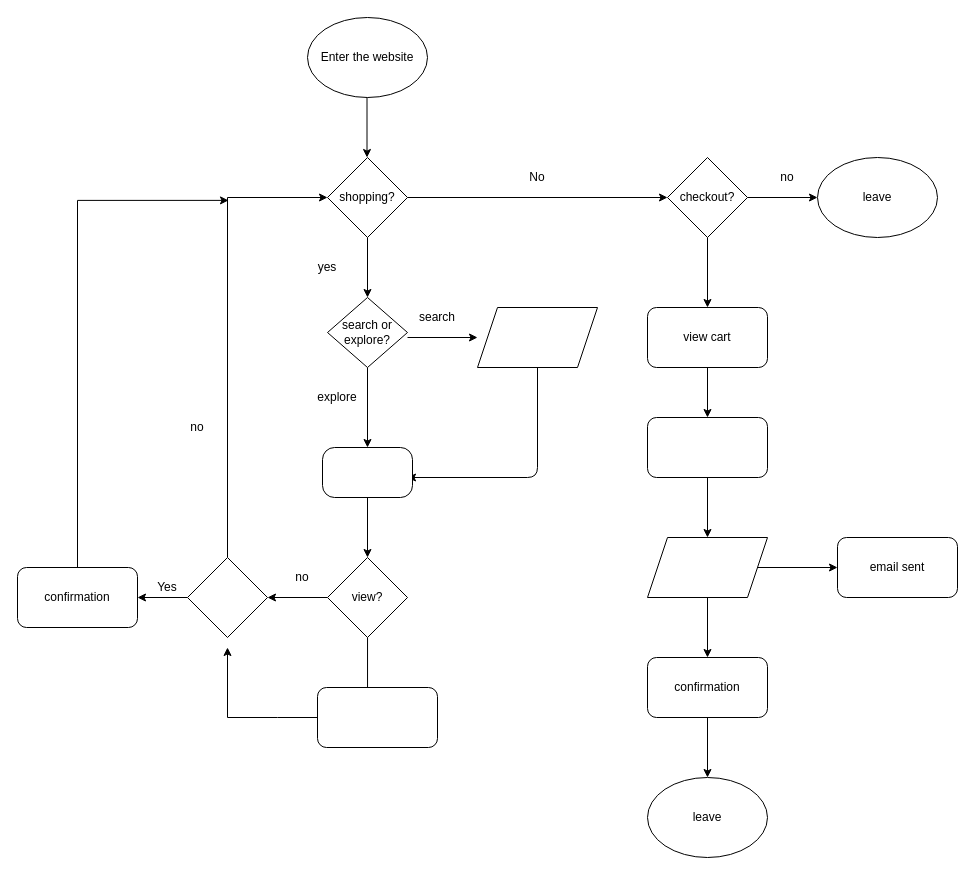
Some shapes in this 975 by 875 pixel diagram are drawn without their labels. Here are the shapes that lost their labels. From the top down, the centre of each, then its label:
At point 537,337: "read search".
At point 707,447: "view payment".
At point 367,472: "product".
At point 707,567: "input payment".
At point 227,597: "add?".
At point 377,717: "open product page".
